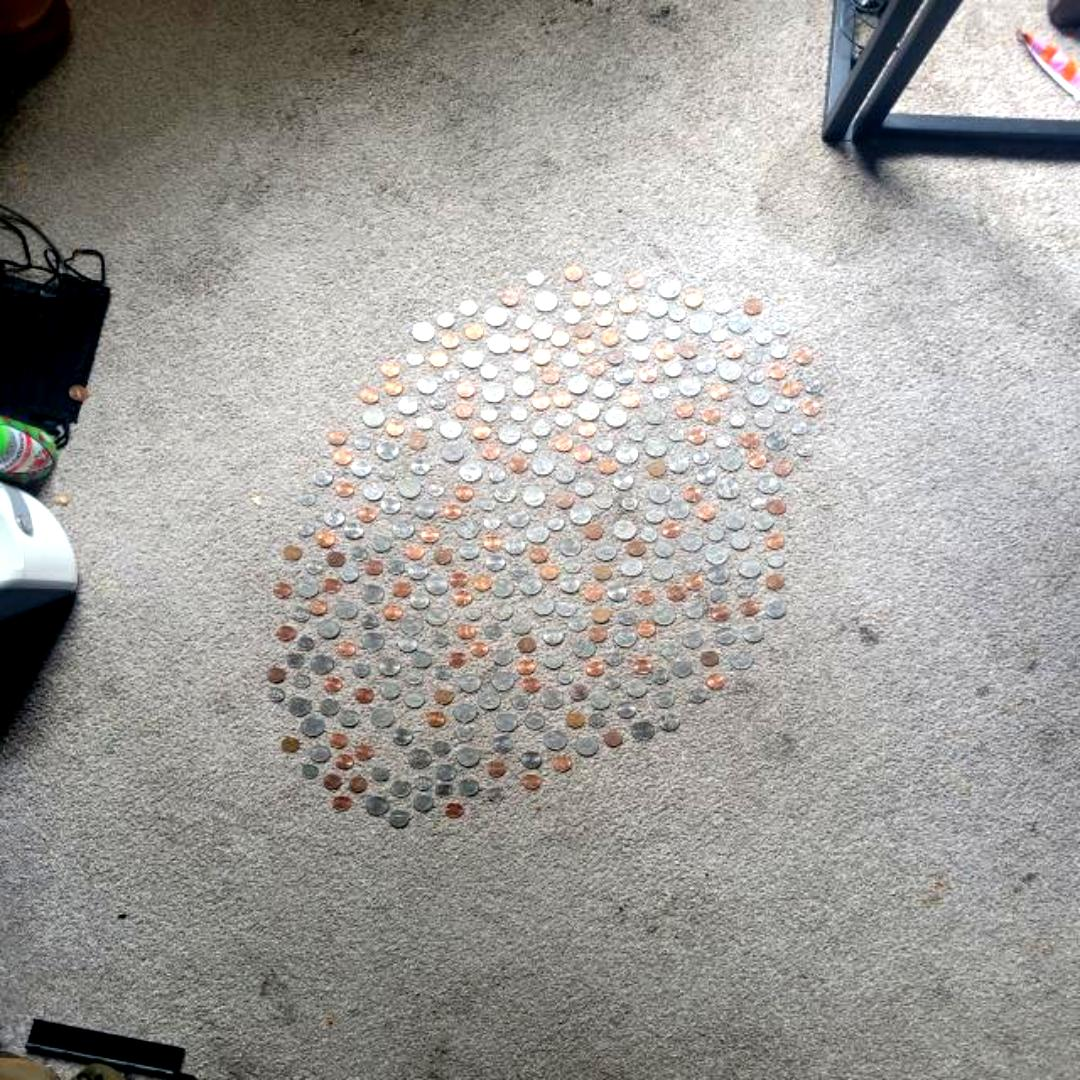Dime: (593, 383, 613, 399), (459, 301, 477, 316), (790, 421, 808, 436), (488, 466, 506, 481), (633, 346, 649, 362), (664, 324, 680, 340), (693, 448, 709, 464), (686, 604, 702, 620), (483, 514, 499, 530), (298, 520, 314, 536), (669, 306, 687, 320), (728, 412, 746, 426), (746, 368, 764, 382), (804, 378, 822, 392), (484, 624, 502, 638), (605, 652, 623, 666), (481, 364, 497, 379), (438, 312, 454, 327), (516, 315, 532, 330), (527, 271, 543, 286), (564, 308, 580, 323), (594, 271, 610, 286), (594, 290, 610, 305), (511, 407, 527, 422), (628, 426, 644, 441), (664, 363, 680, 378), (713, 298, 729, 313), (711, 326, 727, 341), (714, 432, 730, 447), (456, 726, 472, 741), (605, 675, 621, 690), (689, 689, 705, 704), (407, 352, 423, 366), (416, 416, 432, 430), (562, 352, 578, 366), (513, 358, 529, 372), (597, 438, 613, 452), (668, 428, 684, 442), (775, 398, 791, 412), (771, 344, 787, 358), (756, 330, 772, 344), (773, 320, 789, 334), (796, 442, 812, 456), (751, 496, 767, 510), (711, 588, 727, 602), (621, 496, 637, 510), (641, 528, 657, 542), (596, 494, 612, 508), (547, 516, 563, 530), (428, 482, 444, 496), (480, 496, 496, 510), (388, 560, 404, 574), (306, 560, 322, 574), (300, 492, 316, 506), (293, 674, 309, 688), (362, 614, 378, 628), (302, 764, 318, 778), (406, 670, 422, 684), (557, 670, 573, 684), (652, 670, 668, 684), (662, 644, 678, 658), (745, 350, 761, 364), (292, 608, 310, 620), (435, 784, 453, 796), (512, 696, 530, 708), (378, 466, 394, 479), (481, 408, 497, 421), (520, 440, 536, 453), (653, 386, 669, 399), (685, 559, 701, 572), (565, 559, 581, 572), (286, 654, 302, 667), (416, 778, 432, 791), (433, 741, 449, 754), (444, 368, 458, 382), (466, 606, 480, 620), (431, 396, 447, 408), (556, 414, 572, 426), (768, 554, 784, 566), (736, 584, 752, 596), (708, 528, 724, 540), (512, 564, 528, 576), (351, 548, 367, 560), (354, 436, 370, 448), (297, 638, 313, 650), (353, 664, 369, 676), (373, 768, 389, 780), (488, 788, 504, 800), (436, 666, 452, 678), (432, 634, 448, 646), (589, 714, 605, 726), (619, 612, 635, 624), (268, 688, 283, 700)
Nickel: (725, 512, 746, 530), (765, 600, 785, 618), (392, 728, 412, 746), (616, 700, 636, 718), (659, 712, 679, 730), (409, 592, 429, 610), (414, 501, 434, 519), (338, 565, 360, 581), (381, 681, 399, 699), (462, 351, 482, 367), (533, 323, 553, 339), (648, 301, 668, 317), (696, 356, 716, 372), (754, 411, 774, 427), (668, 456, 688, 472), (614, 367, 634, 383), (568, 378, 588, 394), (417, 378, 437, 394), (344, 522, 364, 538), (459, 543, 479, 559), (505, 538, 525, 554), (645, 507, 665, 523), (754, 513, 774, 529), (730, 533, 750, 549), (696, 467, 716, 483), (743, 626, 763, 642), (716, 627, 736, 643), (682, 631, 702, 647), (607, 584, 627, 600), (654, 540, 674, 556), (567, 615, 587, 631), (544, 628, 564, 644), (560, 576, 580, 592), (485, 554, 505, 570), (398, 635, 418, 651), (408, 563, 428, 579), (319, 699, 339, 715), (339, 710, 359, 726), (404, 691, 424, 707), (493, 648, 513, 664), (525, 713, 545, 729), (493, 735, 513, 751), (543, 652, 563, 668), (655, 691, 675, 707), (672, 660, 692, 676), (459, 779, 479, 795), (436, 763, 456, 779), (522, 751, 542, 767), (413, 794, 433, 810), (392, 780, 412, 796), (389, 810, 409, 826), (310, 745, 330, 761), (646, 408, 666, 424), (591, 692, 611, 708), (511, 618, 531, 634), (556, 600, 576, 616), (531, 420, 551, 436), (555, 466, 575, 482), (399, 398, 417, 414), (411, 459, 429, 475), (352, 460, 370, 476), (365, 484, 383, 500), (382, 497, 400, 513), (575, 480, 593, 496), (615, 473, 633, 489), (413, 651, 431, 667), (628, 680, 646, 696), (372, 535, 390, 551), (313, 470, 331, 486)
Penny: (328, 430, 348, 446), (747, 452, 767, 468), (316, 531, 336, 547), (583, 524, 603, 540), (585, 660, 605, 676), (433, 688, 453, 704), (280, 737, 300, 753), (328, 732, 348, 748), (445, 802, 465, 818), (683, 293, 703, 308), (441, 333, 461, 348), (744, 299, 762, 315), (782, 381, 800, 397), (710, 384, 728, 400), (702, 408, 720, 424), (464, 324, 482, 340), (454, 486, 472, 502), (336, 481, 354, 497), (662, 522, 680, 538), (433, 548, 451, 564), (473, 574, 491, 590), (636, 589, 654, 605), (685, 574, 703, 590), (712, 605, 730, 621), (383, 604, 401, 620), (707, 673, 725, 689), (604, 730, 622, 746), (570, 685, 588, 701), (335, 753, 353, 769), (333, 794, 351, 810), (523, 773, 541, 789), (554, 436, 574, 450), (766, 500, 786, 514), (765, 534, 785, 548), (277, 626, 297, 640), (354, 688, 374, 702), (794, 348, 812, 363), (674, 403, 692, 418), (679, 342, 697, 357), (655, 345, 673, 360), (501, 290, 519, 305), (361, 388, 379, 403), (481, 444, 499, 459), (457, 382, 475, 397), (531, 395, 549, 410), (542, 369, 560, 384), (586, 360, 604, 375), (621, 392, 639, 407), (689, 429, 707, 444), (742, 432, 760, 447), (697, 505, 715, 520), (310, 601, 328, 616), (522, 676, 540, 691), (596, 311, 612, 327), (573, 291, 589, 307), (335, 448, 351, 464), (575, 448, 591, 464), (767, 573, 783, 589), (593, 607, 609, 623), (394, 581, 410, 597), (274, 582, 290, 598), (339, 640, 355, 656), (702, 651, 718, 667), (565, 266, 583, 280), (725, 344, 743, 358), (511, 336, 529, 350), (533, 350, 551, 364), (429, 352, 447, 366), (383, 380, 401, 394), (386, 422, 404, 436), (409, 434, 427, 448), (509, 458, 527, 472), (472, 424, 490, 438), (454, 404, 472, 418), (552, 332, 570, 346), (358, 508, 376, 522), (420, 528, 438, 542), (483, 536, 501, 550), (327, 552, 345, 566), (450, 572, 468, 586), (454, 590, 472, 604), (530, 548, 548, 562), (638, 622, 656, 636), (517, 638, 535, 652), (469, 642, 487, 656), (457, 624, 475, 638), (323, 578, 341, 592), (517, 660, 535, 674), (267, 668, 285, 682), (355, 746, 373, 760), (323, 774, 341, 788), (488, 762, 506, 776), (627, 272, 643, 287), (803, 400, 819, 415), (601, 330, 617, 345), (383, 363, 399, 378), (554, 392, 570, 407), (575, 323, 591, 338), (607, 348, 623, 363), (640, 366, 656, 381), (649, 461, 665, 476), (774, 461, 790, 476), (685, 487, 701, 502), (407, 544, 423, 559), (584, 587, 600, 602), (667, 586, 687, 598), (742, 601, 758, 616), (324, 676, 340, 691), (540, 566, 558, 579), (769, 364, 785, 378), (620, 298, 636, 312), (578, 340, 594, 354), (579, 422, 595, 436), (600, 460, 616, 474), (556, 494, 572, 508), (444, 504, 460, 518), (285, 546, 301, 560), (594, 566, 610, 580), (449, 652, 465, 666), (634, 660, 650, 674), (350, 778, 366, 792), (554, 756, 570, 770), (428, 712, 444, 726), (588, 628, 606, 640), (566, 714, 584, 726), (628, 542, 644, 554), (366, 562, 382, 574)
Quarter: (484, 306, 508, 326), (666, 500, 690, 520), (650, 560, 674, 580), (316, 619, 340, 639), (360, 631, 384, 651), (540, 689, 564, 709), (544, 730, 568, 750), (574, 736, 598, 756), (630, 721, 654, 741), (391, 518, 414, 538), (297, 578, 320, 598), (311, 654, 334, 674), (458, 673, 481, 693), (406, 748, 429, 768), (362, 407, 384, 427), (412, 322, 434, 342), (758, 473, 780, 493), (494, 483, 516, 503), (336, 600, 358, 620), (426, 606, 448, 626), (454, 702, 476, 722), (614, 628, 636, 648), (730, 650, 752, 670), (456, 747, 478, 767), (512, 377, 536, 395), (440, 443, 464, 461), (764, 431, 788, 449), (716, 480, 740, 498), (648, 485, 672, 503), (378, 657, 402, 675), (400, 615, 424, 633), (720, 361, 741, 381), (690, 314, 711, 334), (617, 445, 638, 465), (458, 519, 479, 539), (491, 577, 512, 597), (323, 507, 344, 527), (301, 716, 322, 736), (371, 707, 392, 727), (483, 384, 506, 402), (625, 322, 648, 340), (289, 697, 312, 715), (646, 437, 666, 457), (706, 544, 726, 564), (740, 558, 760, 578), (596, 540, 616, 560), (574, 638, 594, 658), (654, 606, 674, 626), (748, 386, 768, 406), (532, 457, 554, 475), (376, 442, 398, 460), (440, 420, 462, 438), (498, 426, 520, 444), (488, 335, 510, 353), (620, 558, 642, 576), (614, 520, 636, 538), (526, 524, 548, 542), (508, 509, 530, 527), (520, 577, 542, 595), (426, 576, 448, 594), (362, 584, 384, 602), (398, 479, 420, 497), (532, 597, 554, 615), (478, 690, 500, 708), (492, 672, 514, 690), (366, 796, 388, 814), (728, 313, 749, 331), (720, 453, 741, 471), (681, 533, 702, 551), (459, 463, 480, 481), (491, 601, 512, 619), (495, 712, 516, 730), (536, 293, 556, 311), (578, 402, 598, 420), (606, 409, 626, 427), (680, 377, 700, 395), (658, 280, 678, 298), (708, 565, 728, 583), (560, 538, 580, 556), (570, 506, 590, 524), (524, 488, 544, 506)
